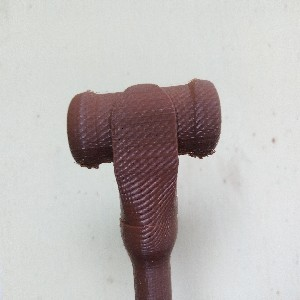palu: (66, 76, 221, 300)
